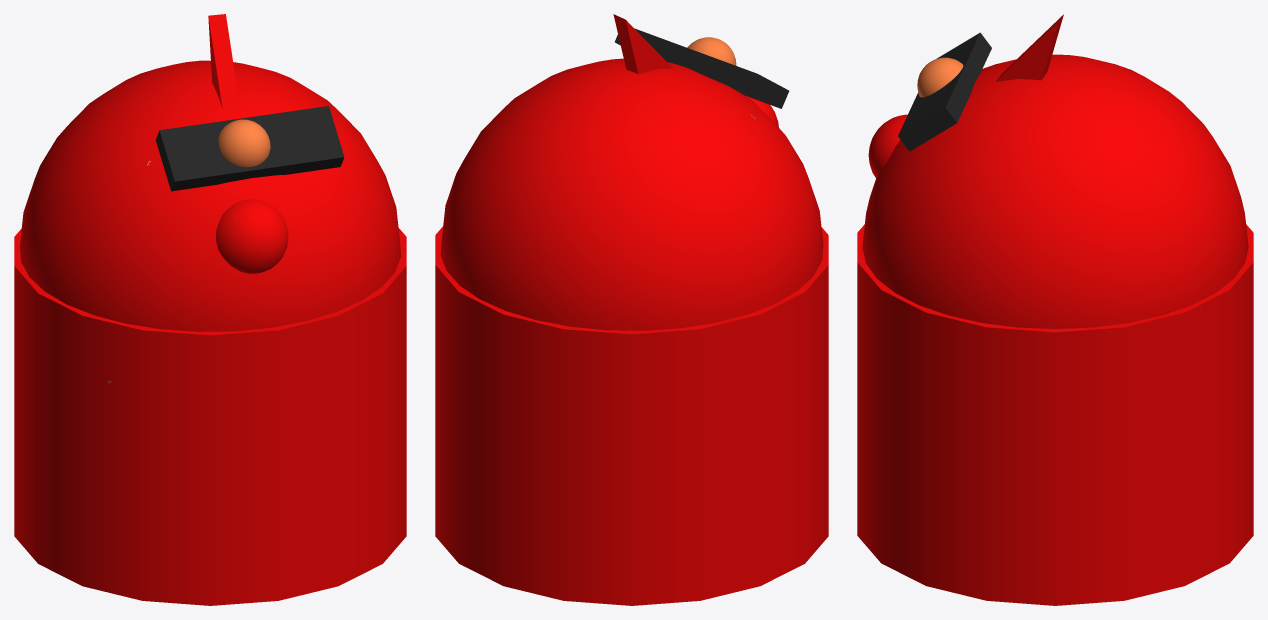
Rendered from AkaiZakuMogura.FBX.
3 renders of one model, left to right at view 1: azimuth 30°, elevation 25°; view 2: azimuth 150°, elevation 25°; view 3: azimuth 270°, elevation 25°, orthographic.
Parts seen in each view (by area): view 1: Cylinder001, Sphere001, Box001, Sphere002, Prism001, Sphere004; view 2: Cylinder001, Sphere001, Box001, Prism001, Sphere004; view 3: Cylinder001, Sphere001, Box001, Prism001, Sphere002, Sphere004.
Boxes of the visible parts, x1,y1,x2,y2 form: Cylinder001: (14, 228, 406, 605); Sphere001: (20, 60, 400, 331); Box001: (155, 106, 344, 191); Sphere002: (216, 199, 288, 273); Prism001: (208, 14, 240, 109); Sphere004: (218, 119, 270, 167); Cylinder001: (435, 226, 828, 605); Sphere001: (440, 58, 823, 330); Box001: (615, 28, 789, 108); Prism001: (613, 14, 672, 74); Sphere004: (687, 37, 736, 65); Cylinder001: (857, 224, 1253, 605); Sphere001: (862, 54, 1248, 328); Box001: (898, 32, 991, 151); Prism001: (995, 14, 1063, 81); Sphere002: (868, 114, 907, 178); Sphere004: (917, 57, 963, 97).
Size of the model in its own units: 20 by 19.7 by 27.86.
